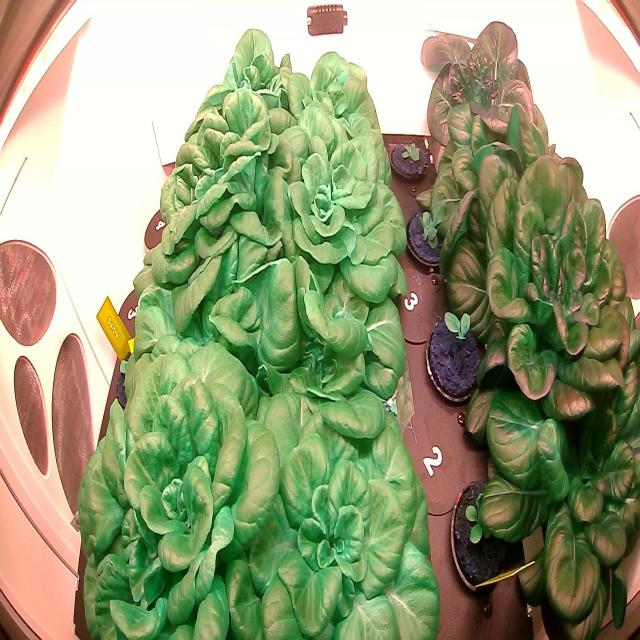Ready: (59, 307, 285, 640), (466, 327, 640, 640), (468, 143, 640, 453), (244, 386, 445, 639), (252, 95, 412, 362), (253, 230, 419, 446), (432, 70, 596, 284), (123, 172, 279, 364), (151, 73, 295, 260), (414, 13, 560, 191), (177, 19, 310, 195), (273, 34, 394, 206)
germination: (423, 302, 498, 413)
young: (448, 466, 530, 605), (401, 188, 464, 273), (386, 130, 446, 198)
